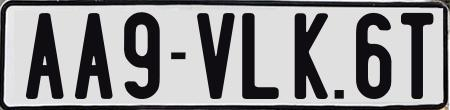6: (356, 12, 391, 99)
9: (123, 12, 160, 102)
A: (72, 13, 115, 100), (26, 11, 65, 102)
K: (293, 10, 332, 99)
L: (242, 11, 285, 100)
T: (400, 11, 436, 97)
V: (195, 13, 237, 103)
